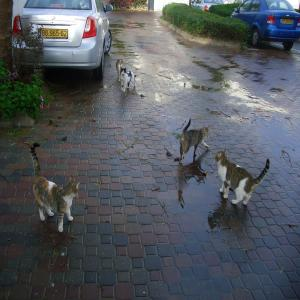Vehicle-registration-plate: (40, 28, 69, 40), (283, 19, 294, 25)
